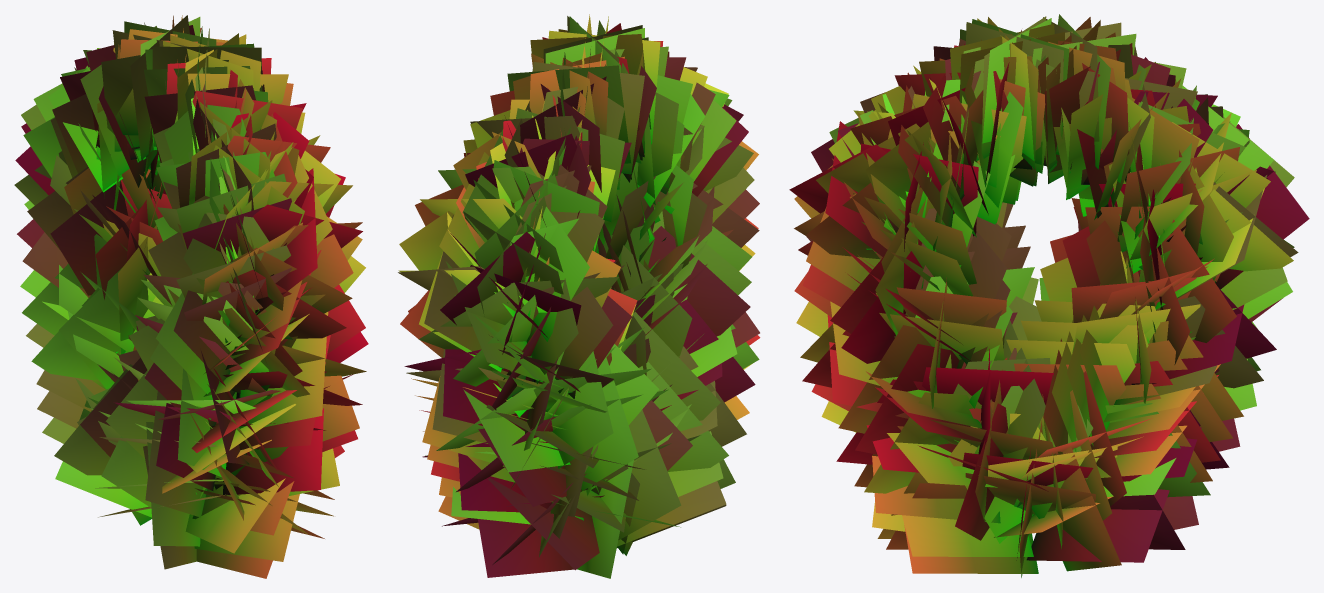
File: URP_P4_Tree_14_LOD_3.fbx
3 views of the same model, side by side, from view 1: azimuth 30°, elevation 25°; view 2: azimuth 150°, elevation 25°; view 3: azimuth 270°, elevation 25° (orthographic). The views are drawn at different scales.
Visible parts, largest first — view 1: Tree_14_LOD_3; view 2: Tree_14_LOD_3; view 3: Tree_14_LOD_3.
Boxes of the visible parts, bbox=[...] form: Tree_14_LOD_3: bbox=[14, 15, 368, 578]; Tree_14_LOD_3: bbox=[398, 14, 760, 578]; Tree_14_LOD_3: bbox=[789, 14, 1309, 577].
Bounding box in the file's own units: 215 × 438 × 384.
